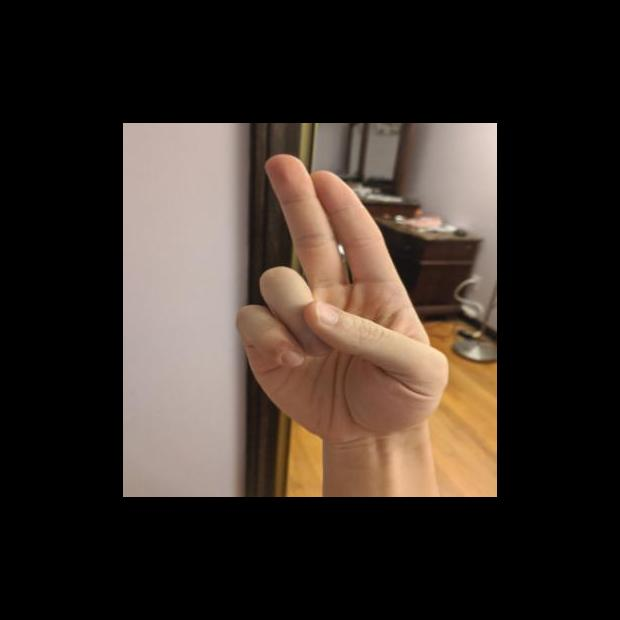T: (223, 151, 453, 446)
